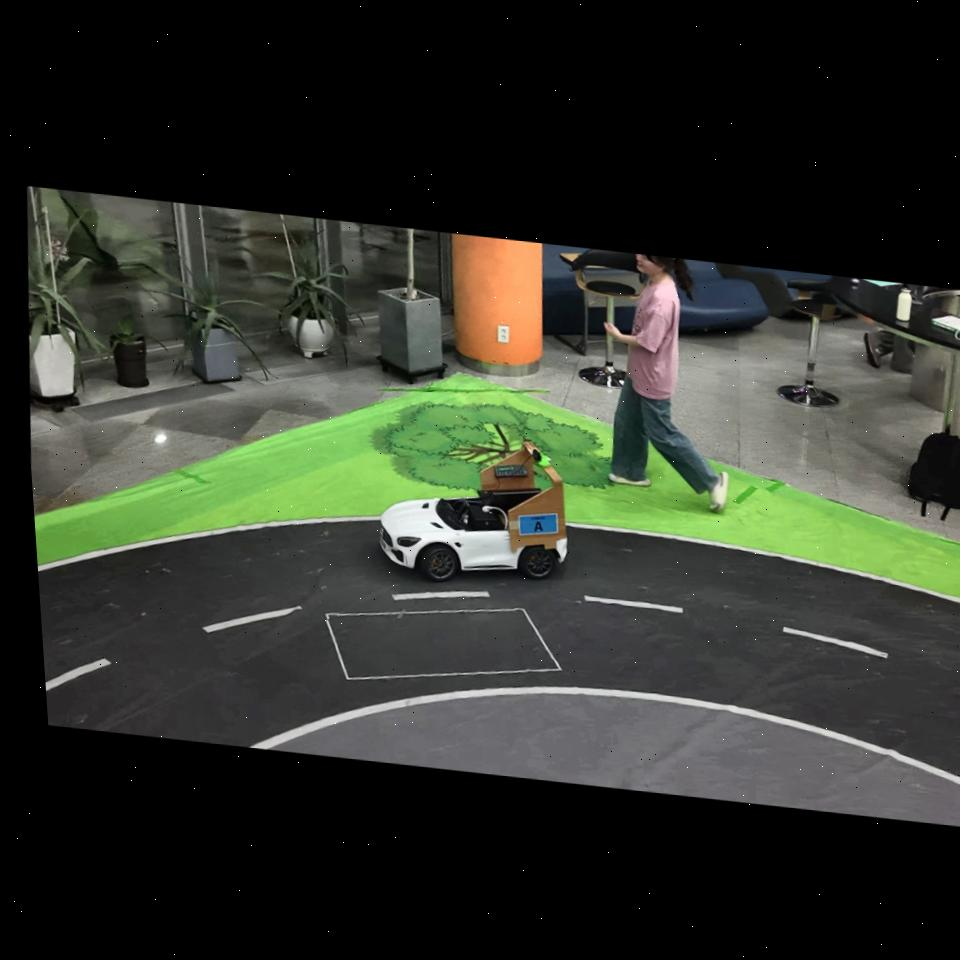broken_line: (783, 626, 889, 659), (201, 606, 302, 633), (46, 658, 112, 691), (584, 595, 684, 613), (391, 591, 490, 600)
